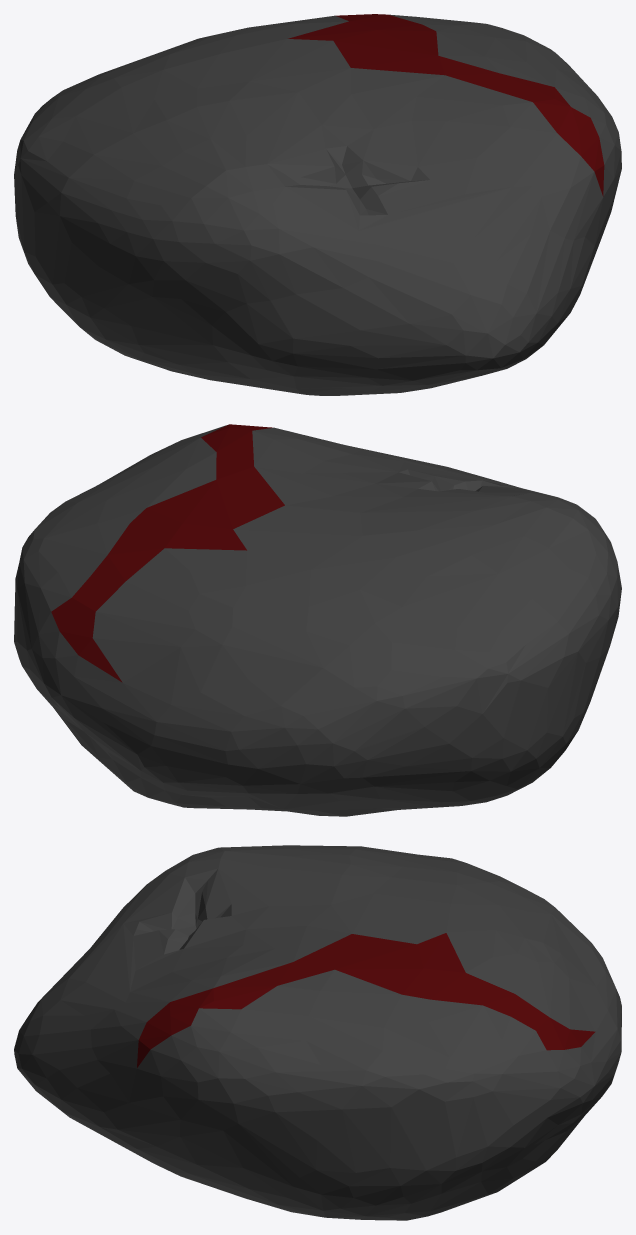
The model's file is ohvrikivi.fbx.
The picture shows the model from 3 angles, top to bottom: view 1: azimuth 30°, elevation 25°; view 2: azimuth 150°, elevation 25°; view 3: azimuth 270°, elevation 25°; orthographic projection. The views are drawn at different scales.
Visible parts, largest first — view 1: Icosphere; view 2: Icosphere; view 3: Icosphere.
Part boxes in pixels (bbox=[...]): Icosphere: bbox=[14, 14, 621, 395]; Icosphere: bbox=[14, 424, 621, 816]; Icosphere: bbox=[14, 845, 621, 1220].
Bounding box in the file's own units: 234 × 115 × 256.
